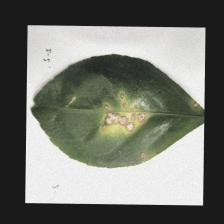canker: (90, 89, 160, 140)
